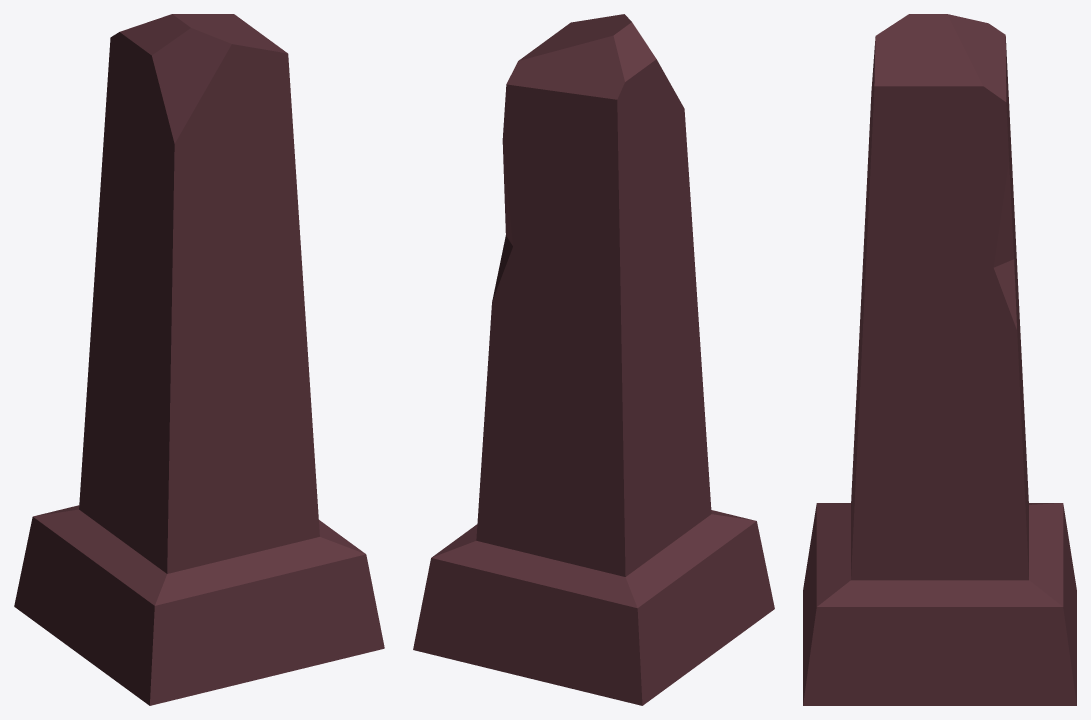
Rendered from egypt-egypt-obelisk-old-broken.glb.
3 renders of one model, left to right at view 1: azimuth 30°, elevation 25°; view 2: azimuth 150°, elevation 25°; view 3: azimuth 270°, elevation 25°, orthographic. The views are drawn at different scales.
Visible parts, largest first — view 1: obelisk-old-broken; view 2: obelisk-old-broken; view 3: obelisk-old-broken.
Part boxes in pixels (x1=…): obelisk-old-broken: x1=14, y1=14, x2=384, y2=705; obelisk-old-broken: x1=413, y1=14, x2=774, y2=705; obelisk-old-broken: x1=803, y1=14, x2=1076, y2=705.
Size of the model in its own units: 4 by 10.03 by 4.
